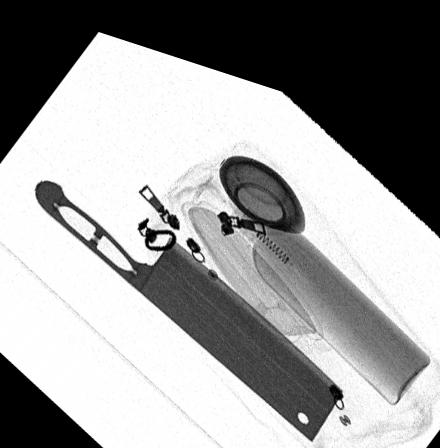Knife: (33, 175, 344, 424)
